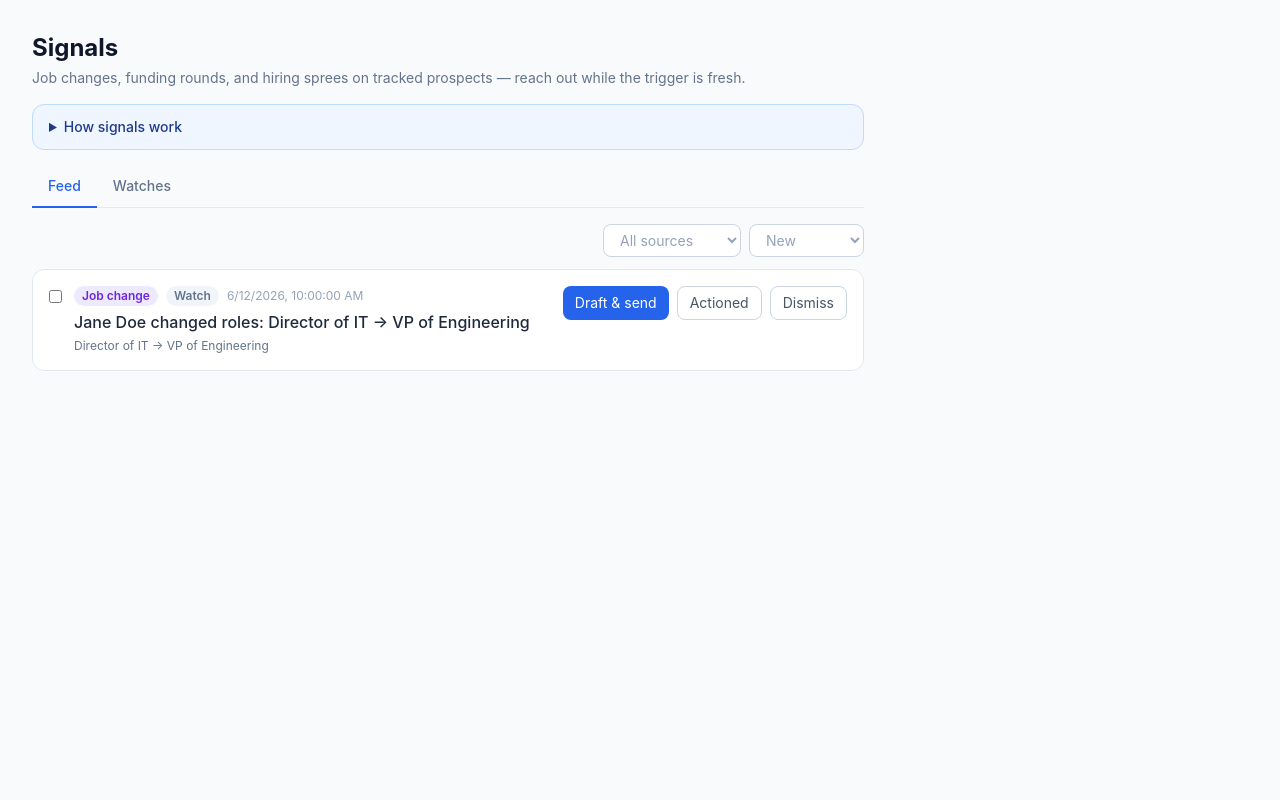
it: Signal detail → draft → send › draft → send: composes, picks sender, sends, logs
Click the button with test id "draft-signal-s1" at {"x": 616, "y": 303}, box left=563, top=286, right=669, bottom=320
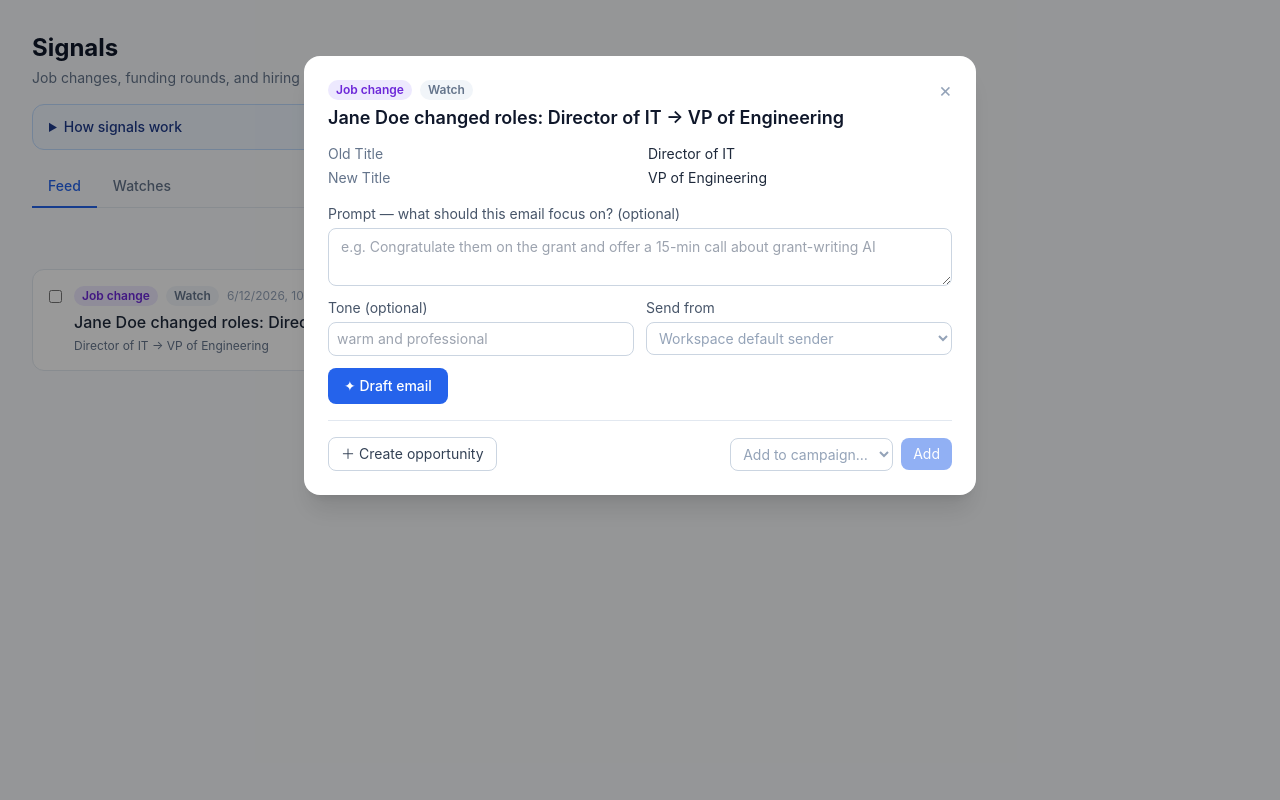
Click the button with test id "signal-draft-btn" at {"x": 388, "y": 386}, box left=328, top=368, right=448, bottom=404
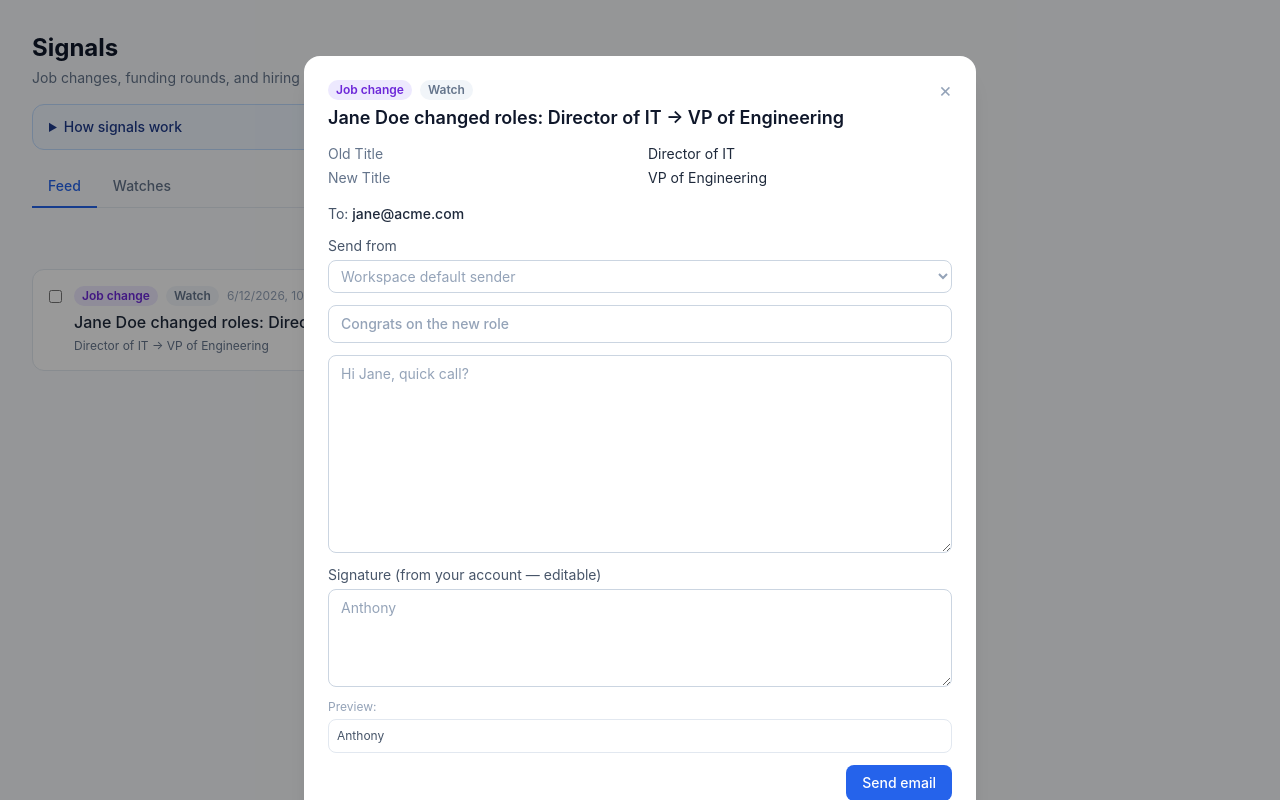
Result: the field with test id "signal-subject" holds "Congrats on the new role" at left=328, top=305, right=952, bottom=343
Result: the element with test id "signal-to" shows "jane@acme.com" at left=352, top=205, right=464, bottom=222
# Pick a sender, then send.
Select "Outreach (me@csuitecode.com)" in the dropdown with test id "signal-from-picker" at {"x": 640, "y": 276}, box left=328, top=260, right=952, bottom=293
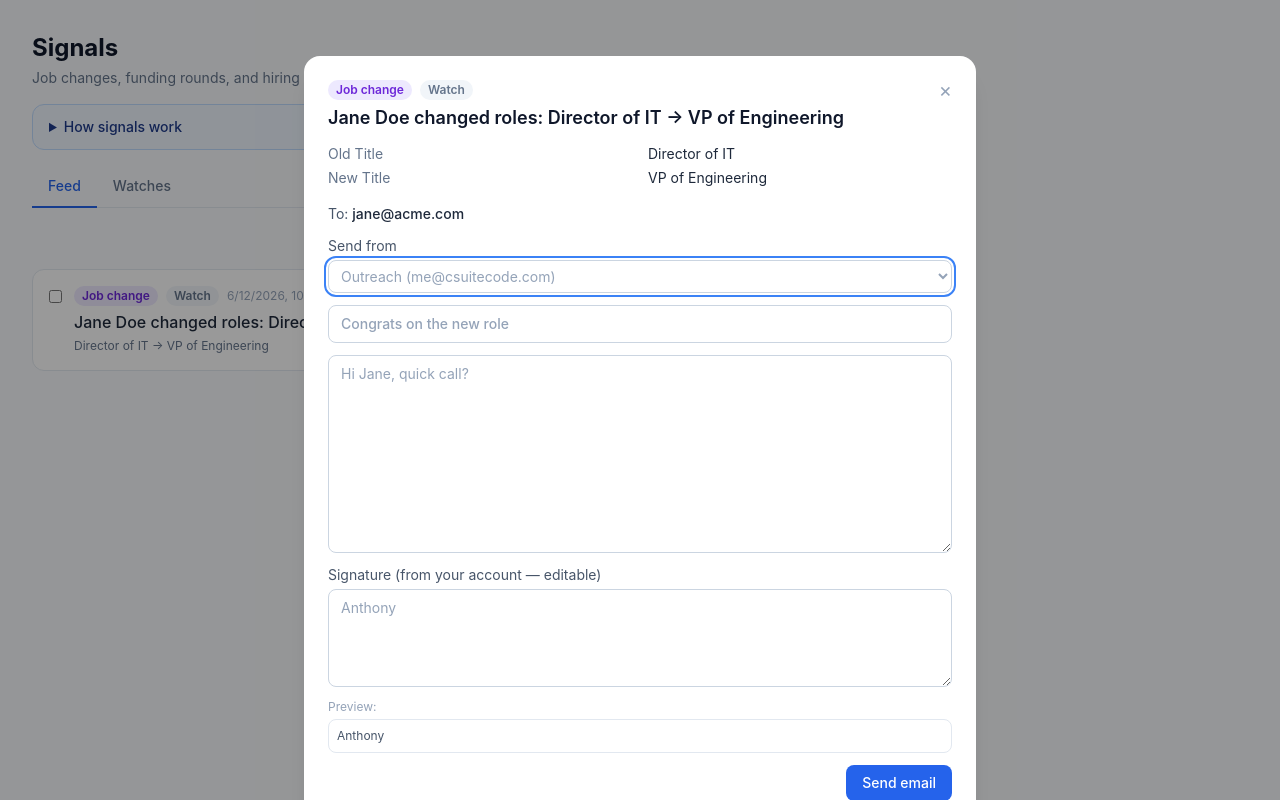
Click the button with test id "signal-send-btn" at {"x": 899, "y": 783}, box left=846, top=765, right=952, bottom=799
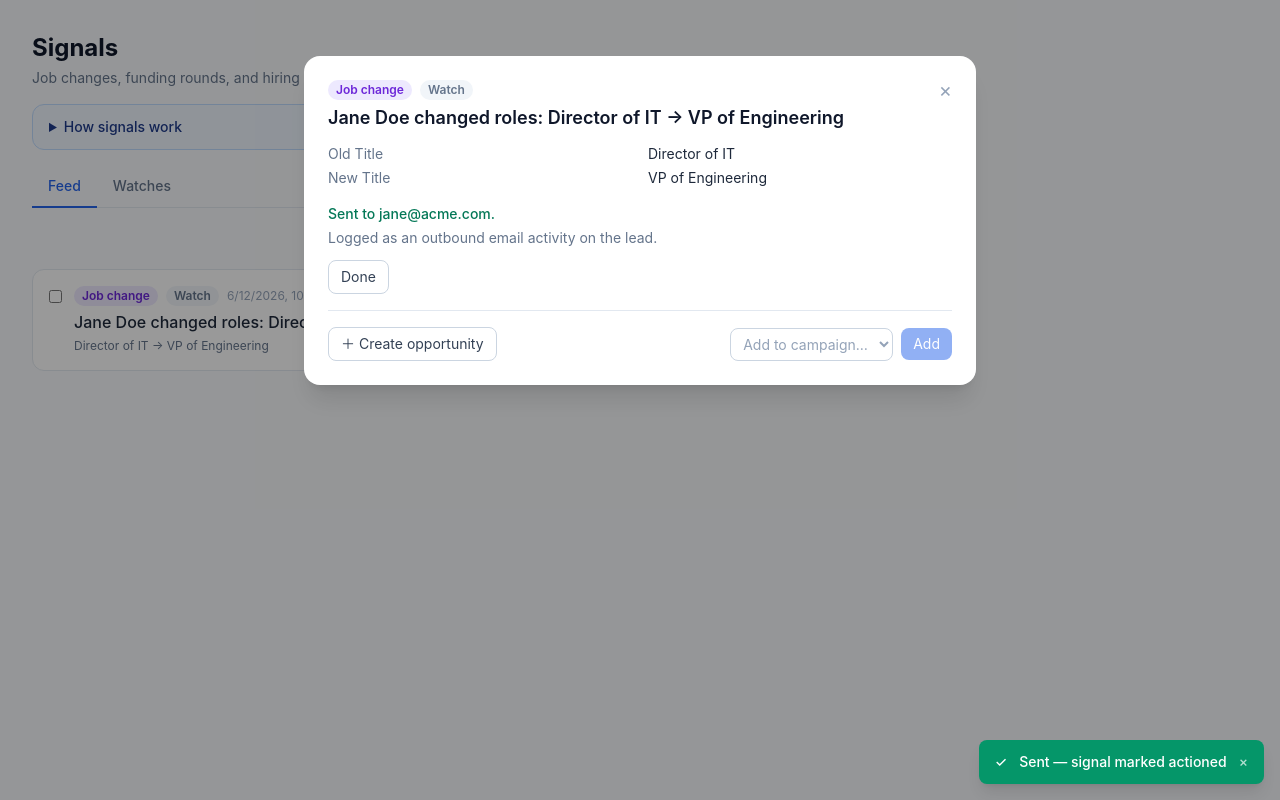
Result: the element with test id "signal-send-success" is shown at left=328, top=205, right=657, bottom=294
Result: the text with test id "signal-crm-note" shows "outbound email activity" at left=328, top=229, right=657, bottom=246
